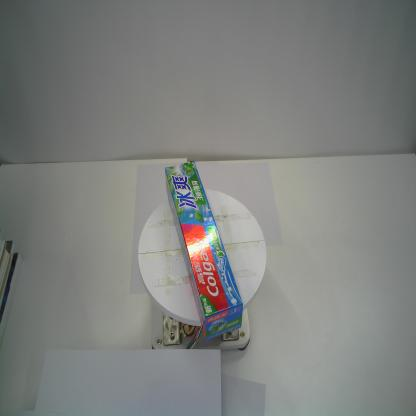Personal Hygiene: (165, 160, 243, 341)
